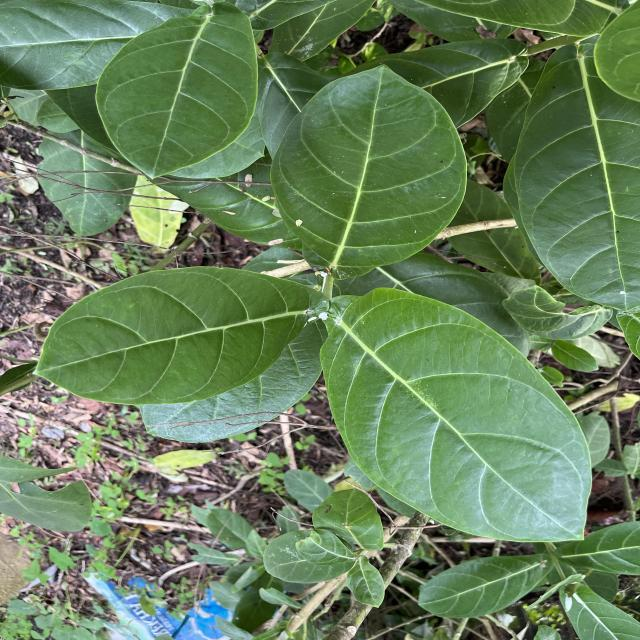Calotropis gigantea: (320, 286, 596, 545), (267, 61, 470, 282), (31, 264, 328, 408), (512, 44, 640, 315), (93, 0, 261, 181), (415, 552, 551, 620)
